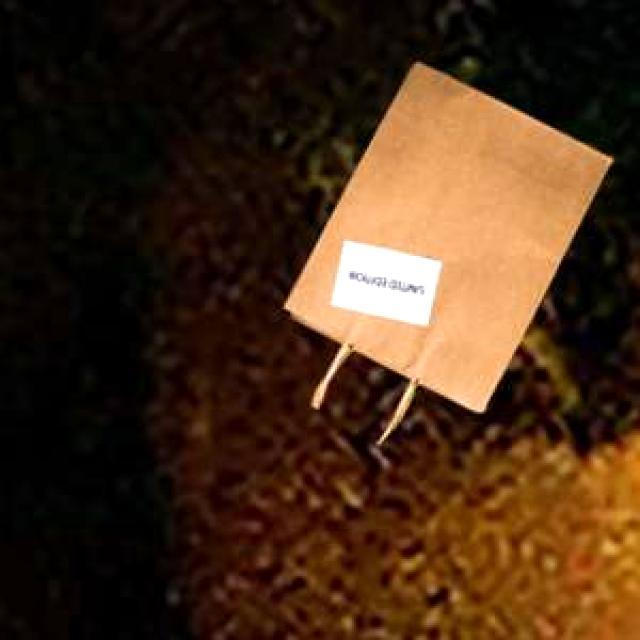Paper_Bag: (280, 59, 610, 438)
